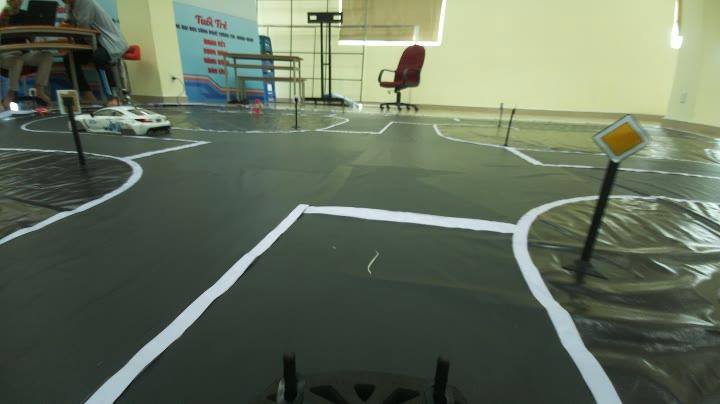priority: (587, 112, 657, 175)
